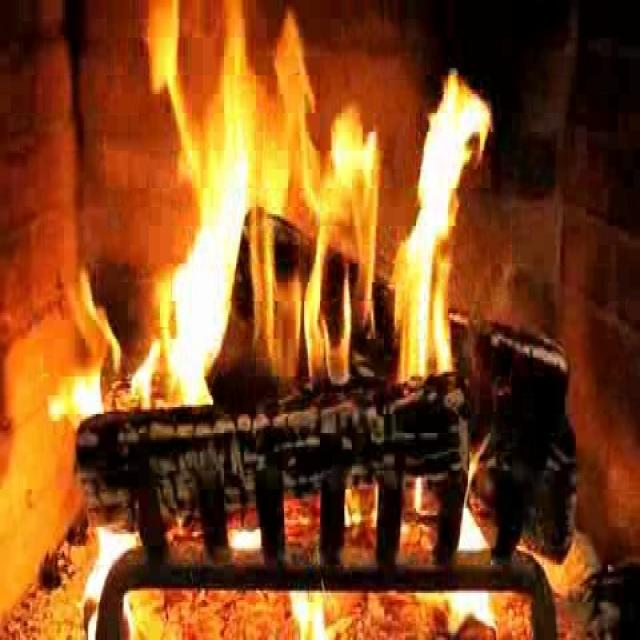fire: (136, 11, 482, 414)
